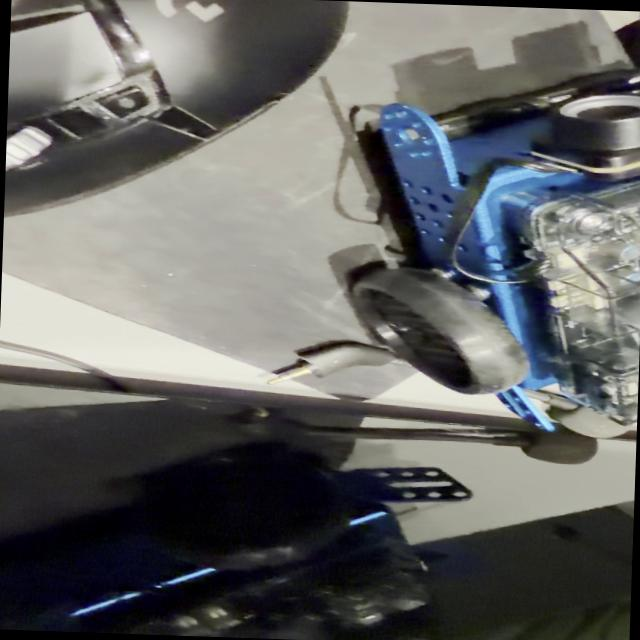mbot-detection: (329, 71, 640, 442)
